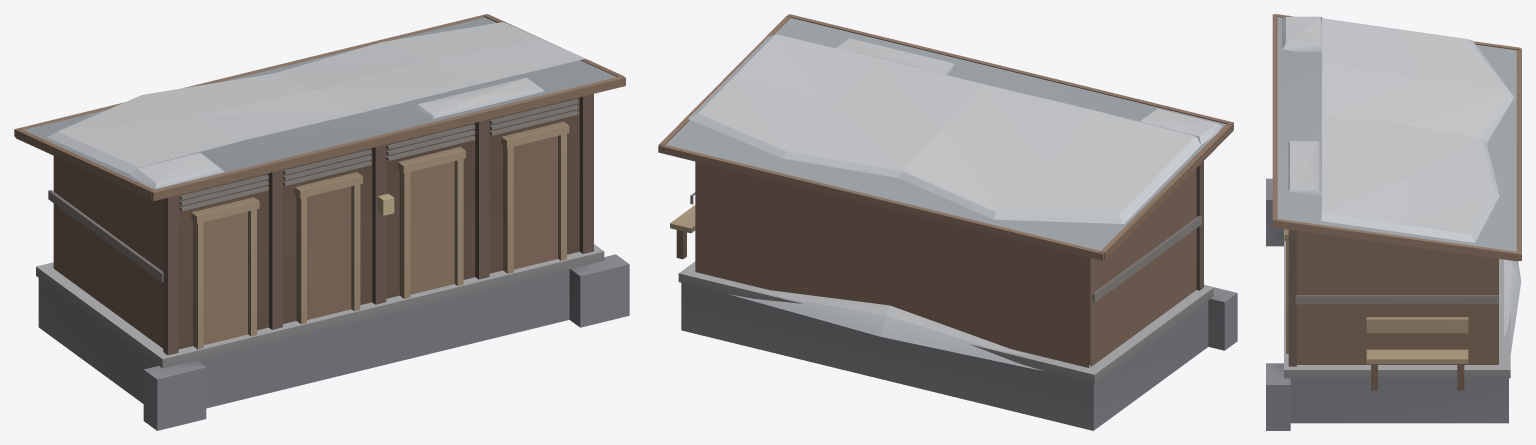
File: washhouse.lod1.glb
3 renders of one model, left to right at view 1: azimuth 30°, elevation 25°; view 2: azimuth 150°, elevation 25°; view 3: azimuth 270°, elevation 25°, orthographic. The views are drawn at different scales.
Bounding box in the file's own units: 9.97 × 4.64 × 5.03.
